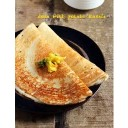dosa: (16, 22, 110, 100)
